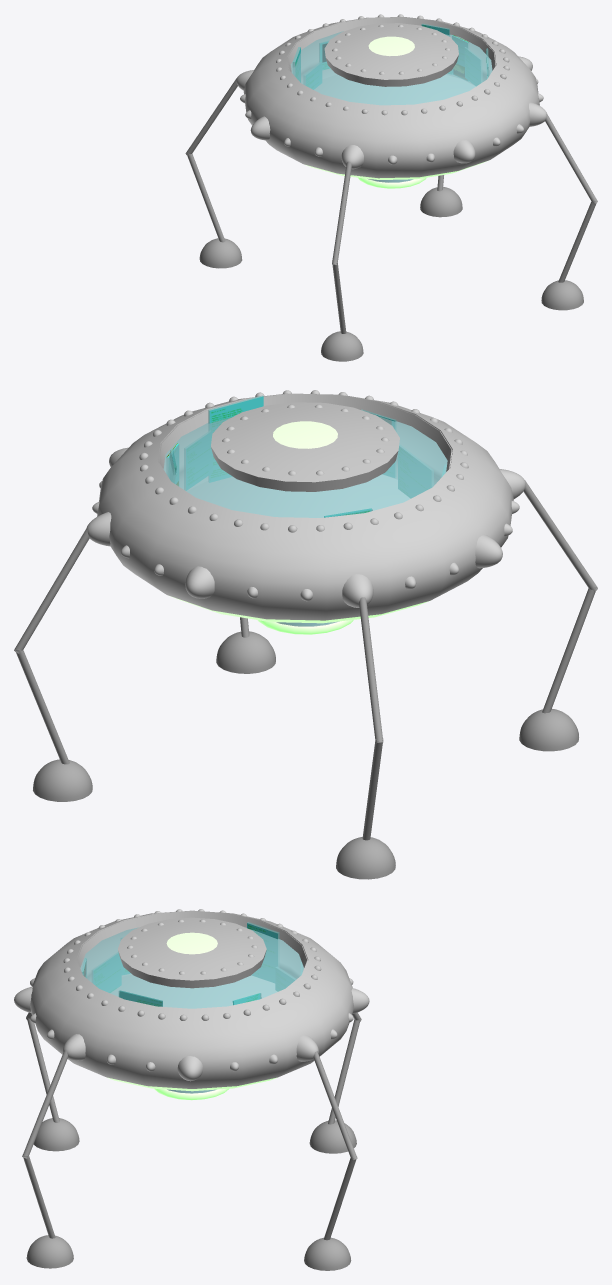
The model's file is Spaceship.fbx.
The picture shows the model from 3 angles, top to bottom: view 1: azimuth 30°, elevation 25°; view 2: azimuth 150°, elevation 25°; view 3: azimuth 270°, elevation 25°; orthographic projection. The views are drawn at different scales.
Parts seen in each view (by area): view 1: pSphere106, pSphere137, pSphere105, pSphere101, pSphere104, pSphere103, pSphere102, pCylinder8, pCylinder2, pCylinder7, pCylinder3, pCylinder6 (+1 smaller); view 2: pSphere106, pSphere137, pSphere105, pSphere103, pSphere104, pSphere102, pSphere101, pCube5, pCube20, pCylinder6, pCylinder4, pCylinder9 (+8 smaller); view 3: pSphere106, pSphere137, pSphere105, pSphere101, pSphere102, pSphere104, pSphere103, pCube10, pCube5, pCylinder4, pCylinder2, pCylinder9 (+6 smaller).
Boxes of the visible parts, <box> form: pSphere106: <box>243,17,539,179</box>; pSphere137: <box>287,17,496,105</box>; pSphere105: <box>291,32,492,104</box>; pSphere101: <box>541,280,583,310</box>; pSphere104: <box>321,331,363,361</box>; pSphere103: <box>199,238,242,268</box>; pSphere102: <box>420,187,462,217</box>; pCylinder8: <box>332,161,351,264</box>; pCylinder2: <box>545,114,597,204</box>; pCylinder7: <box>186,153,225,242</box>; pCylinder3: <box>558,200,597,282</box>; pCylinder6: <box>185,78,237,155</box>; pSphere106: <box>97,393,513,623</box>; pSphere137: <box>158,394,452,518</box>; pSphere105: <box>164,422,447,517</box>; pSphere103: <box>336,837,395,879</box>; pSphere104: <box>519,709,578,751</box>; pSphere102: <box>33,759,92,801</box>; pSphere101: <box>216,631,275,673</box>; pCube5: <box>398,445,433,498</box>; pCube20: <box>184,430,212,490</box>; pCylinder6: <box>359,597,383,743</box>; pCylinder4: <box>14,528,89,653</box>; pCylinder9: <box>542,587,596,713</box>; pSphere106: <box>30,910,353,1091</box>; pSphere137: <box>76,911,307,1008</box>; pSphere105: <box>80,928,303,1008</box>; pSphere101: <box>26,1235,73,1268</box>; pSphere102: <box>304,1237,351,1270</box>; pSphere104: <box>33,1118,79,1151</box>; pSphere103: <box>309,1120,356,1153</box>; pCube10: <box>247,922,279,982</box>; pCube5: <box>92,953,121,992</box>; pCylinder4: <box>313,1051,357,1160</box>; pCylinder2: <box>22,1050,68,1158</box>; pCylinder9: <box>26,1016,59,1122</box>.
Size of the model in its own units: 22.69 by 15.26 by 31.24.
